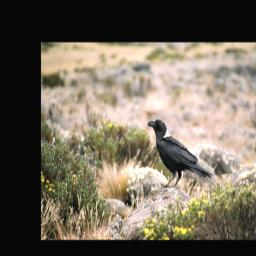Crow: (146, 117, 214, 191)
